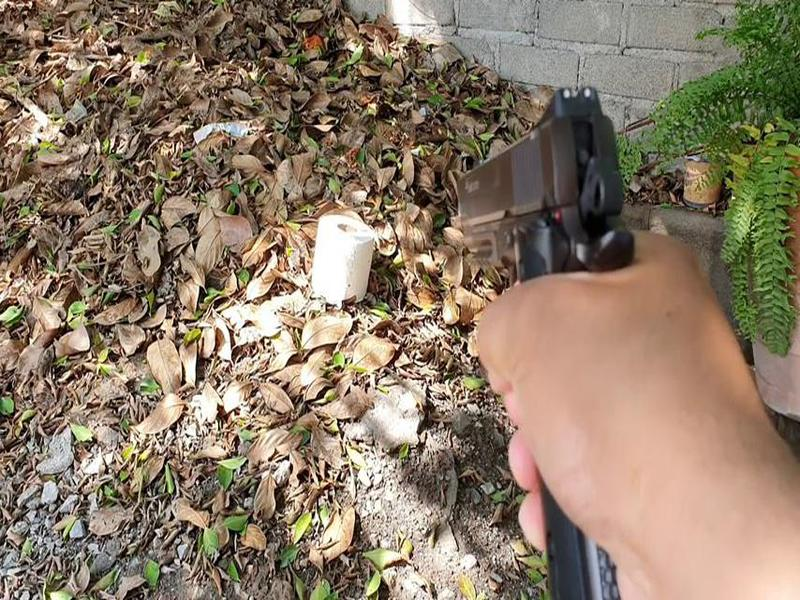Pistola: (431, 84, 647, 375)
